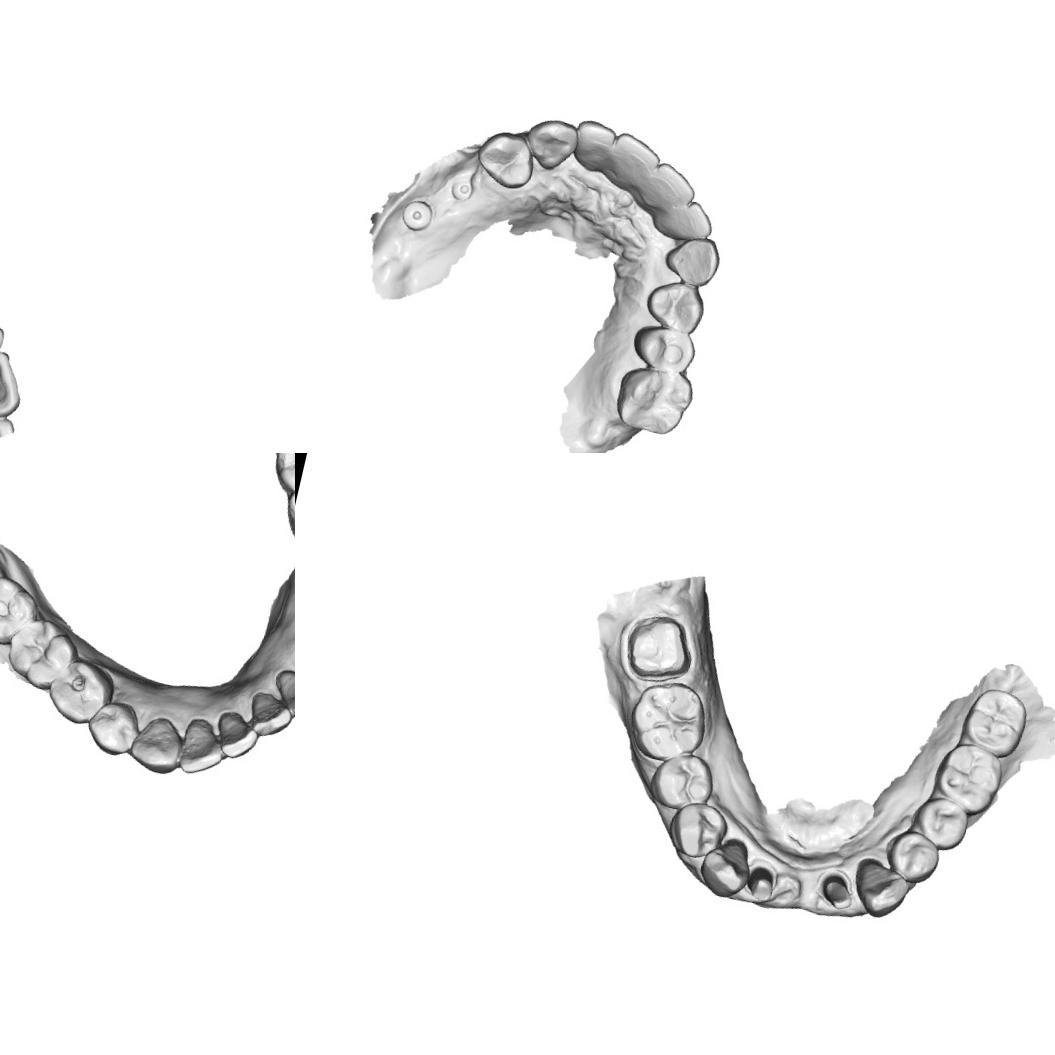abutment: (811, 866, 859, 913), (742, 862, 780, 905)
canine: (846, 854, 914, 924), (694, 832, 758, 902), (125, 712, 190, 780), (659, 228, 726, 291), (520, 112, 581, 176)
crown: (616, 606, 701, 692)
implant: (397, 195, 436, 235), (448, 173, 476, 205)
incisor: (604, 130, 666, 197), (641, 159, 702, 219), (175, 718, 229, 780), (568, 115, 622, 175), (210, 708, 264, 766), (0, 337, 32, 432), (243, 687, 295, 744), (665, 195, 720, 247), (267, 664, 295, 721)
molar: (622, 672, 714, 769), (610, 360, 698, 441), (927, 736, 1008, 820), (0, 613, 80, 696), (954, 682, 1032, 764), (0, 569, 40, 649)
premolar: (42, 653, 118, 731), (644, 745, 720, 817), (662, 795, 733, 864), (472, 125, 542, 192), (640, 274, 712, 338), (880, 824, 945, 889), (627, 320, 702, 376), (907, 791, 972, 855), (82, 695, 141, 760)
